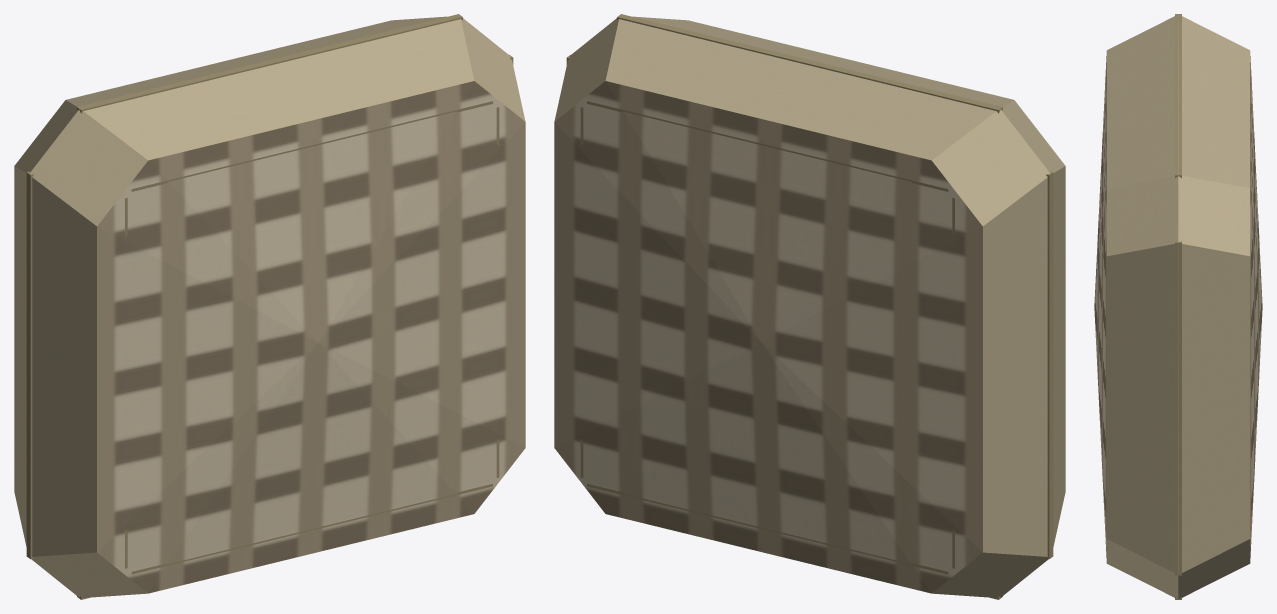
Rendered from cushion.glb.
3 renders of one model, left to right at view 1: azimuth 30°, elevation 25°; view 2: azimuth 150°, elevation 25°; view 3: azimuth 270°, elevation 25°, orthographic. The views are drawn at different scales.
Parts seen in each view (by area): view 1: home_cushion; view 2: home_cushion; view 3: home_cushion.
Boxes of the visible parts, x1=… form: home_cushion: x1=14, y1=14, x2=525, y2=599; home_cushion: x1=554, y1=14, x2=1065, y2=599; home_cushion: x1=1094, y1=14, x2=1262, y2=599.
Bounding box in the file's own units: 0.33 × 0.32 × 0.115.
1 material, 1 textured.
